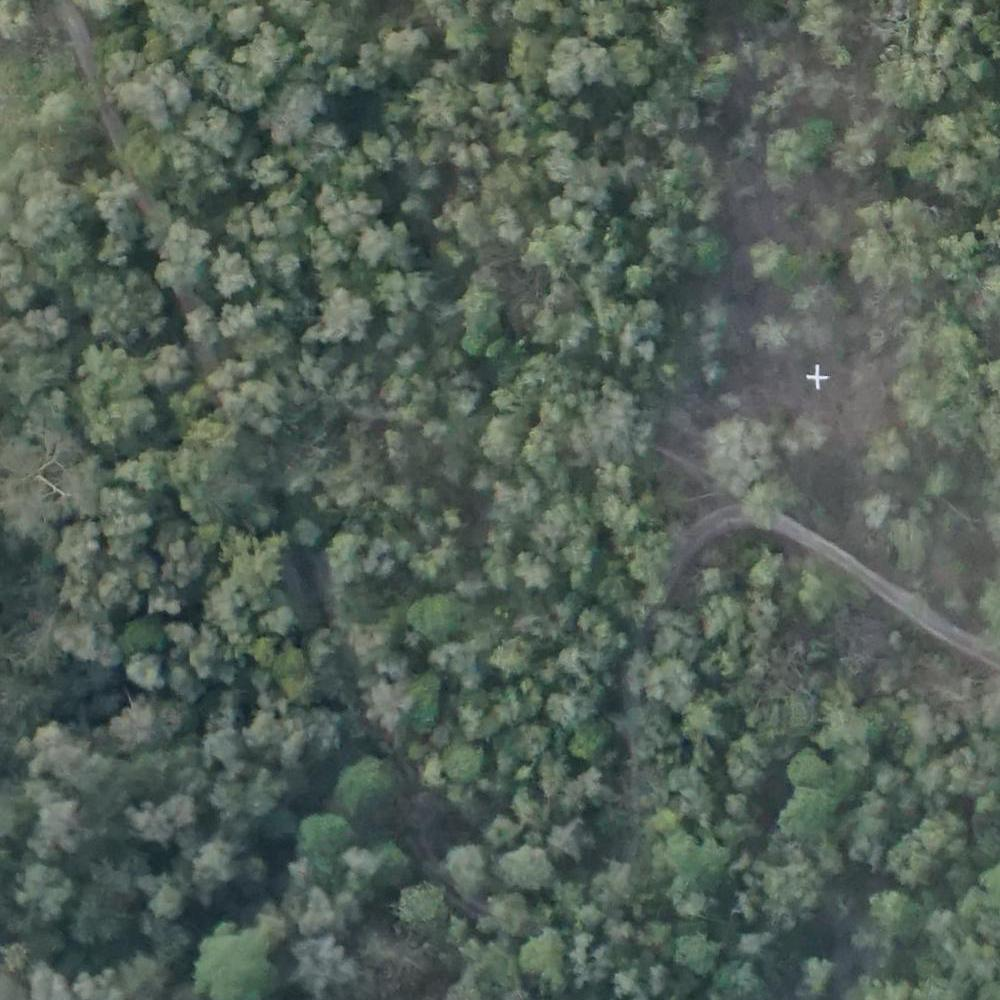tree: (76, 269, 161, 349), (192, 933, 277, 1000), (711, 413, 770, 491), (757, 858, 822, 927), (329, 757, 392, 819), (10, 860, 72, 921), (288, 809, 354, 866), (668, 835, 735, 891), (520, 923, 578, 986), (547, 33, 611, 90), (119, 74, 185, 129), (776, 783, 834, 844), (866, 888, 927, 946), (27, 725, 89, 782), (561, 148, 618, 209), (74, 348, 140, 400), (315, 287, 377, 342), (295, 936, 355, 992), (112, 697, 167, 757), (499, 833, 554, 892), (405, 588, 460, 646), (26, 178, 85, 230), (320, 184, 379, 234), (221, 382, 281, 431), (206, 243, 258, 297), (211, 293, 259, 350), (442, 843, 494, 895), (361, 678, 410, 733), (200, 839, 251, 890), (398, 881, 445, 936), (238, 32, 292, 79), (459, 309, 508, 360), (564, 718, 619, 763), (670, 926, 719, 976), (139, 339, 188, 388), (144, 877, 190, 928), (482, 412, 527, 463), (155, 224, 209, 265), (651, 659, 695, 709), (786, 749, 836, 790), (685, 229, 728, 276), (178, 301, 223, 345), (438, 739, 481, 785), (756, 318, 799, 361), (770, 129, 816, 169), (153, 254, 195, 295), (329, 537, 370, 579), (802, 570, 842, 612), (447, 207, 486, 248), (512, 548, 549, 591), (128, 654, 168, 689), (754, 244, 794, 278), (244, 711, 277, 751), (346, 627, 382, 660), (132, 624, 167, 657), (747, 554, 778, 587), (646, 225, 680, 255)
